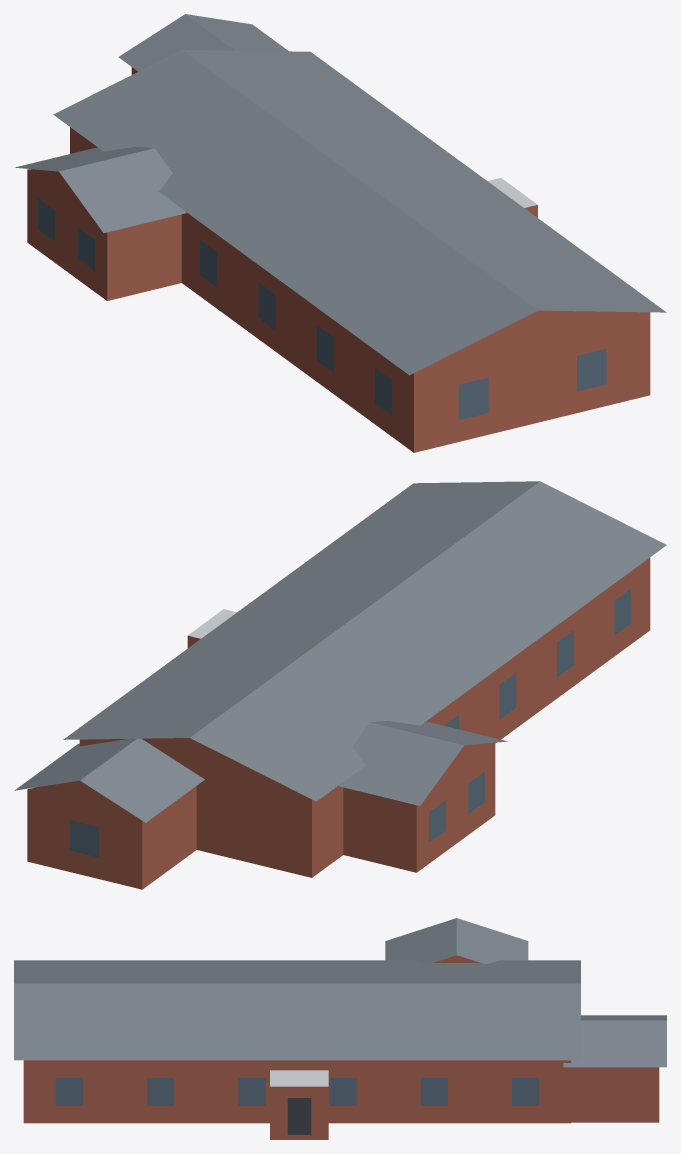
Rendered from clt-cne-bunkhouse.glb.
The picture shows the model from 3 angles, top to bottom: view 1: azimuth 30°, elevation 25°; view 2: azimuth 150°, elevation 25°; view 3: azimuth 270°, elevation 25°; orthographic projection. The views are drawn at different scales.
Visible parts, largest first — view 1: Bunkhouse, Camp North End; view 2: Bunkhouse, Camp North End; view 3: Bunkhouse, Camp North End.
Boxes of the visible parts, x1,y1,x2,y2 form: Bunkhouse, Camp North End: (15, 14, 666, 452); Bunkhouse, Camp North End: (14, 481, 666, 889); Bunkhouse, Camp North End: (14, 918, 666, 1139).
Bounding box in the file's own units: 17.05 × 5.3 × 33.4.
